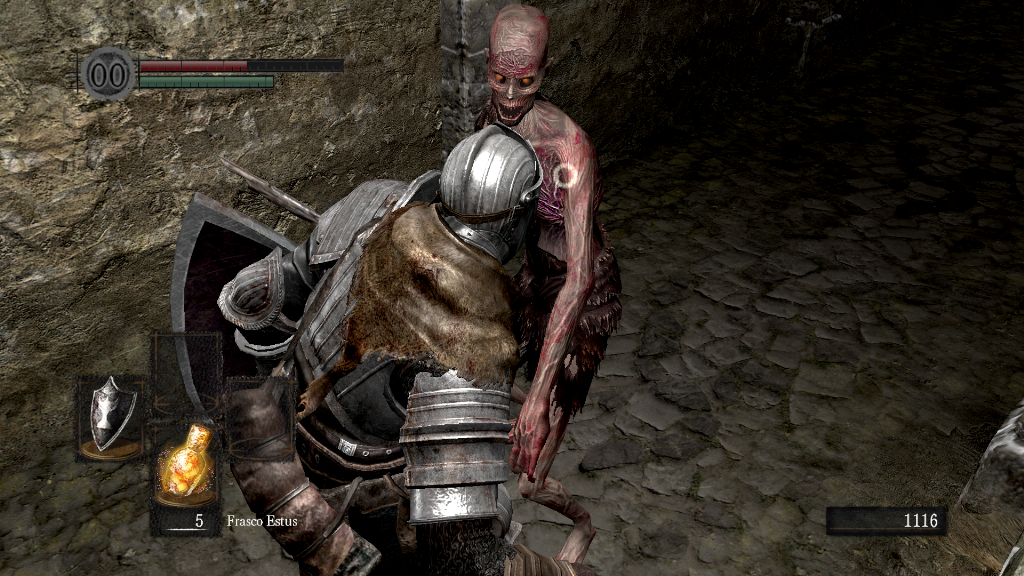health: (138, 58, 343, 71)
hollow: (478, 1, 627, 576)
humanity: (80, 45, 136, 102)
player: (168, 122, 599, 576)
souls: (825, 506, 945, 536)
stamina: (138, 74, 274, 88)
